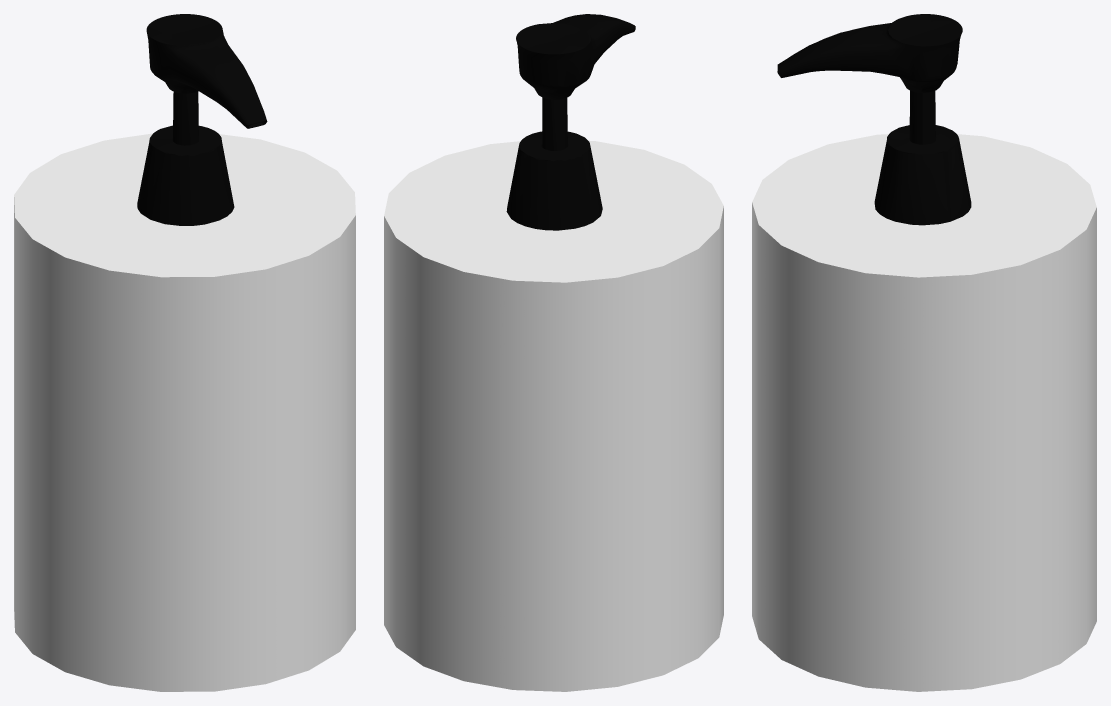
File: Soap.FBX
The picture shows the model from 3 angles, left to right: view 1: azimuth 30°, elevation 25°; view 2: azimuth 150°, elevation 25°; view 3: azimuth 270°, elevation 25°; orthographic projection.
Visible parts, largest first — view 1: soap; view 2: soap; view 3: soap.
Boxes of the visible parts, x1=… form: soap: x1=14, y1=14, x2=355, y2=691; soap: x1=384, y1=14, x2=723, y2=691; soap: x1=752, y1=14, x2=1096, y2=691.
Size of the model in its own units: 7.6 by 14.34 by 7.6.
1 material, 1 textured.
